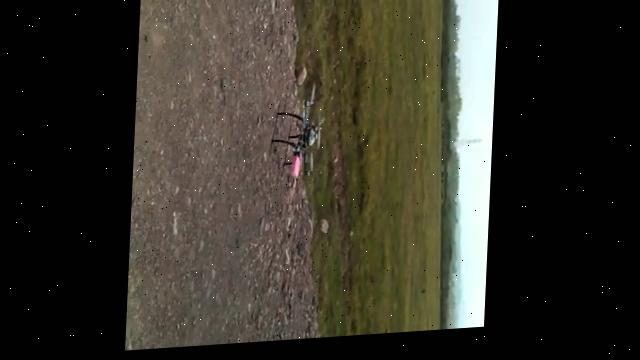drone: (271, 87, 326, 189)
